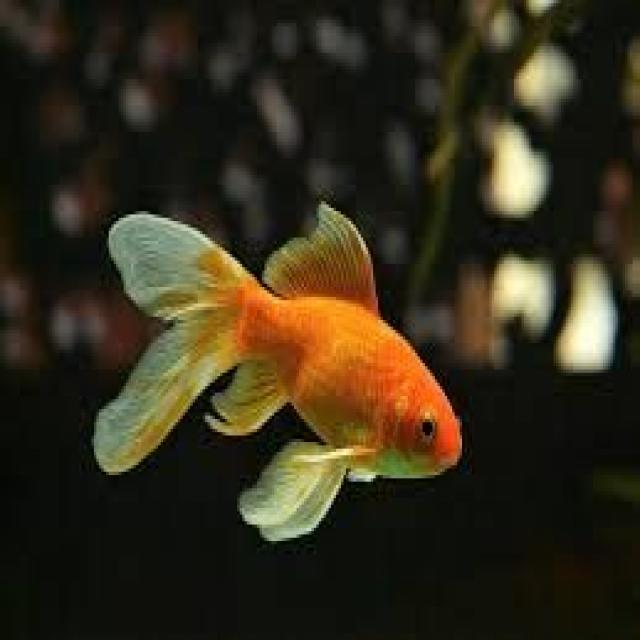Gold-Fish: (52, 87, 471, 602)
